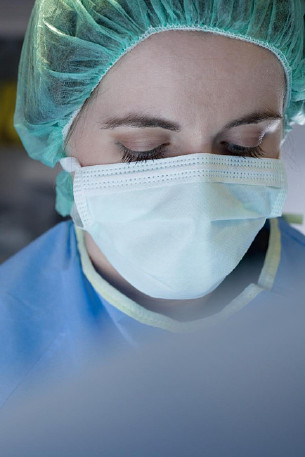face_mask: (74, 26, 288, 300)
